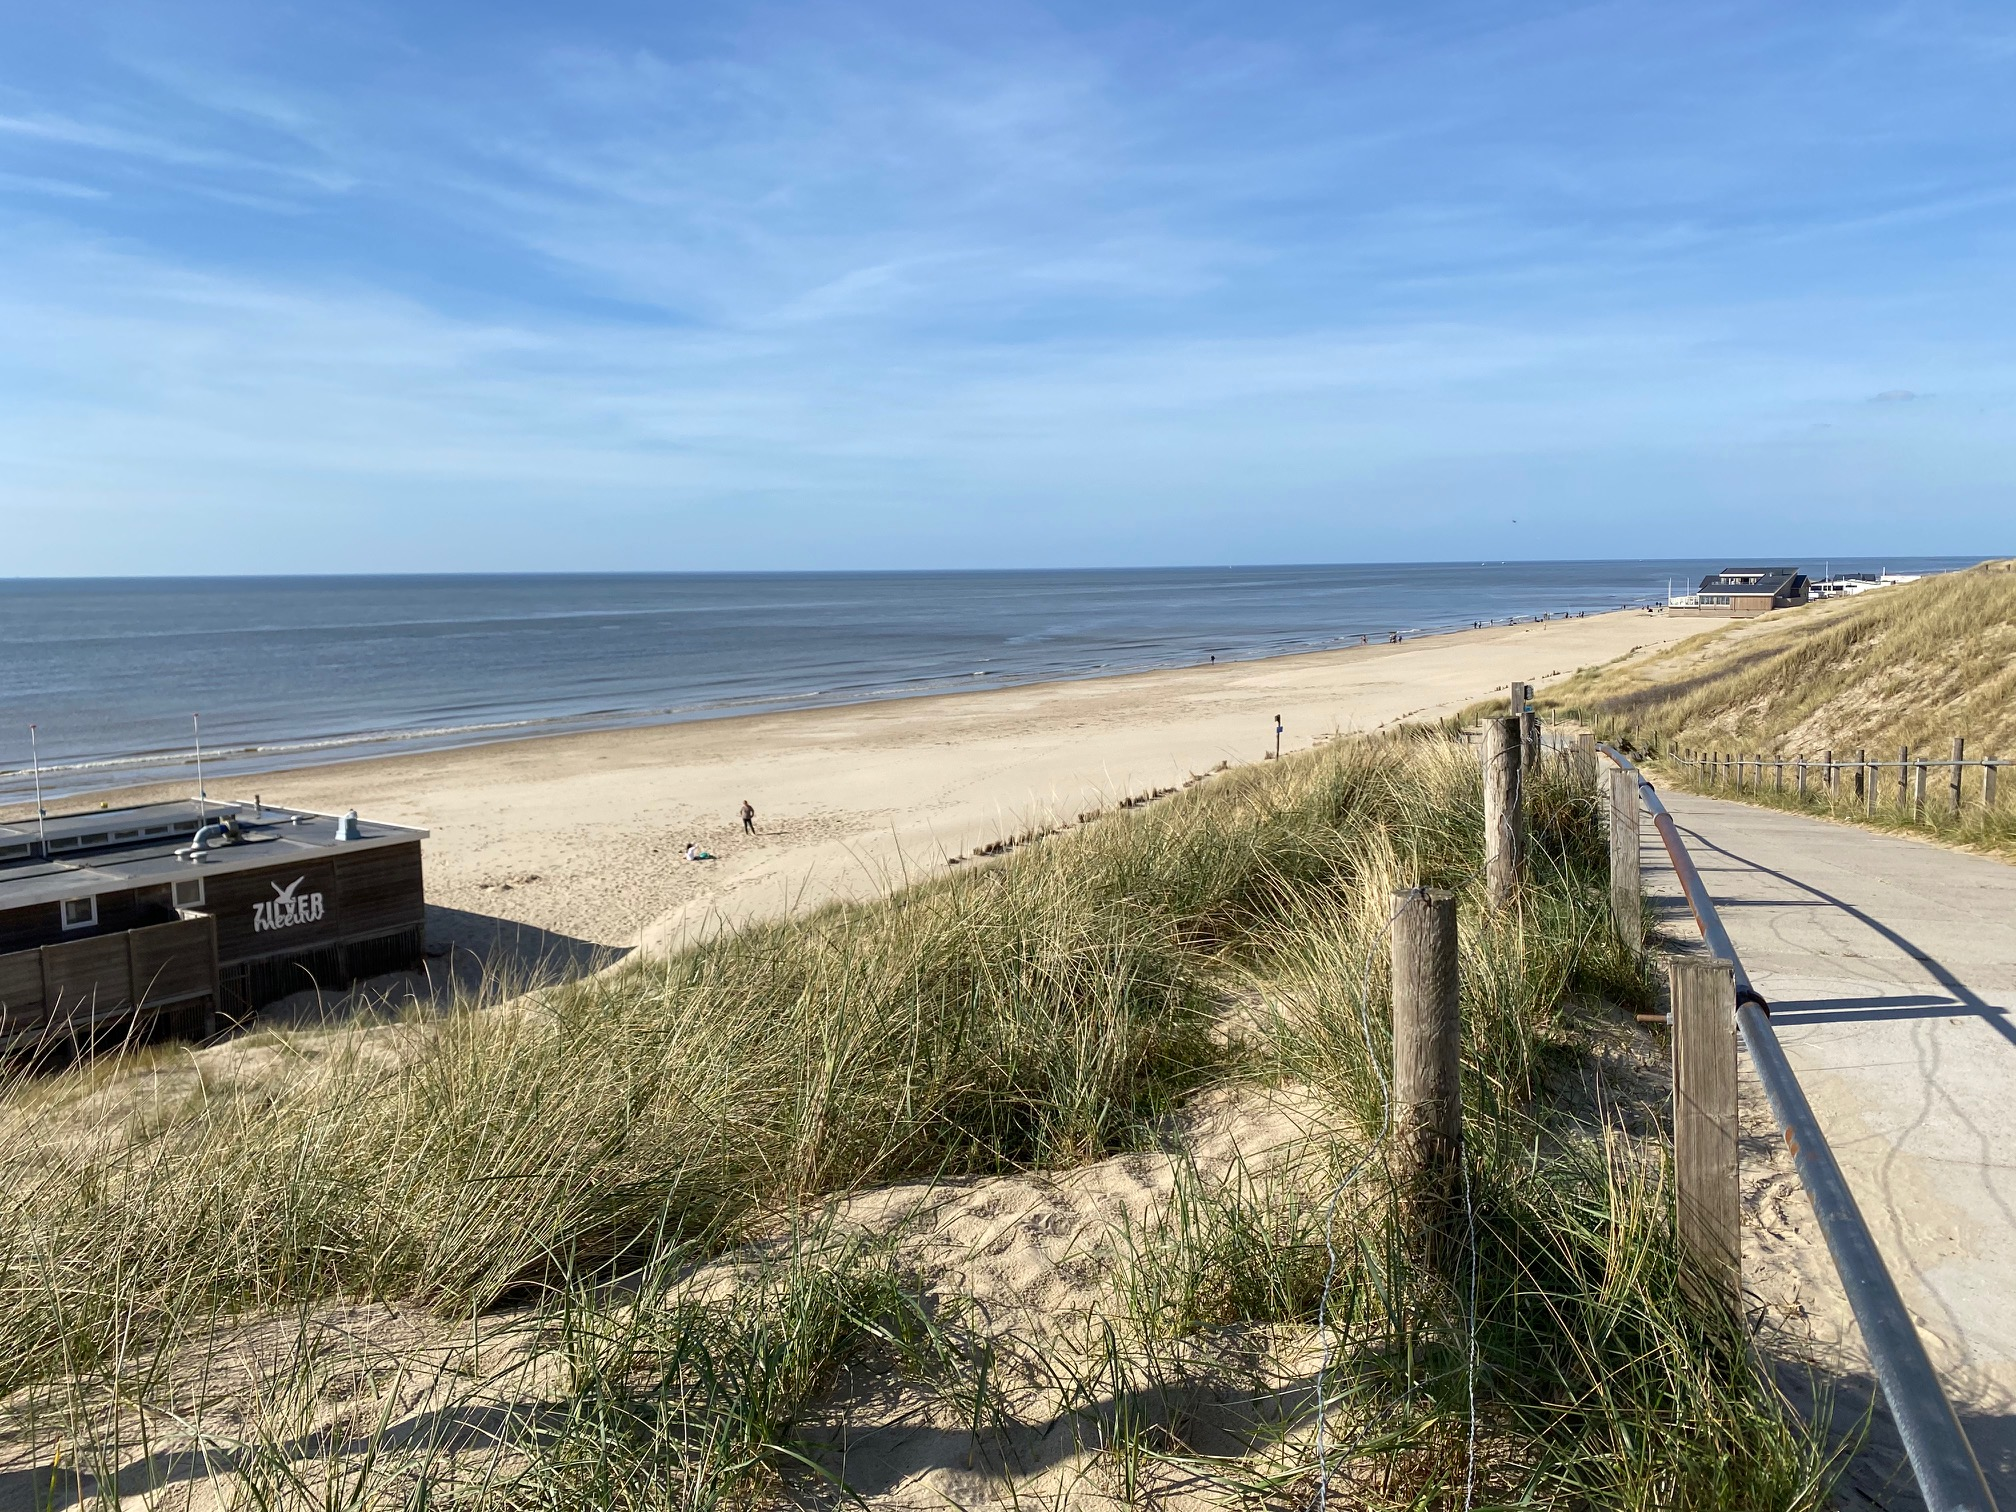pad: (1552, 721, 2016, 1356)
